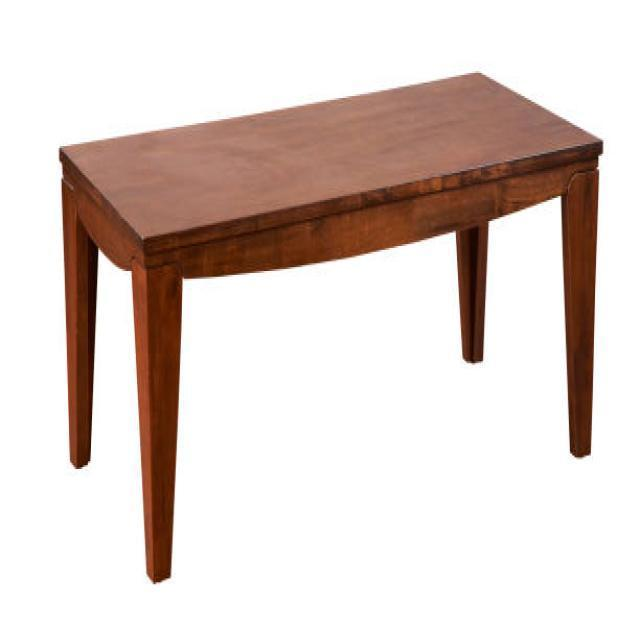table: (57, 68, 604, 582)
